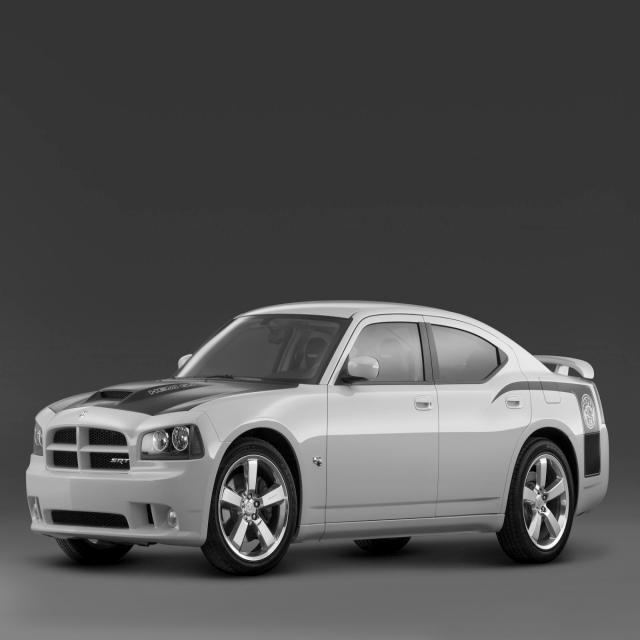car: (25, 299, 610, 576)
